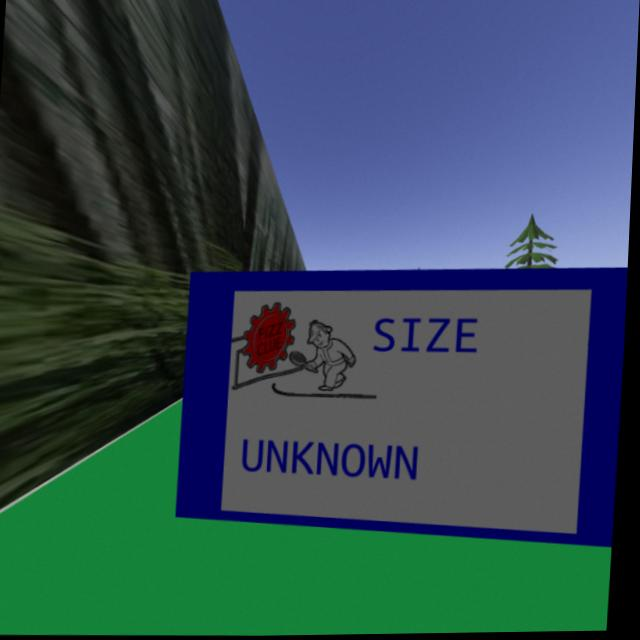clueboard: (156, 252, 628, 557)
